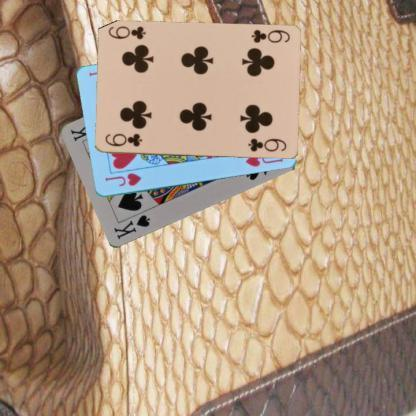6c: (102, 131, 144, 149), (248, 27, 290, 45)
Jh: (102, 170, 142, 188)
Ks: (110, 212, 152, 241)
